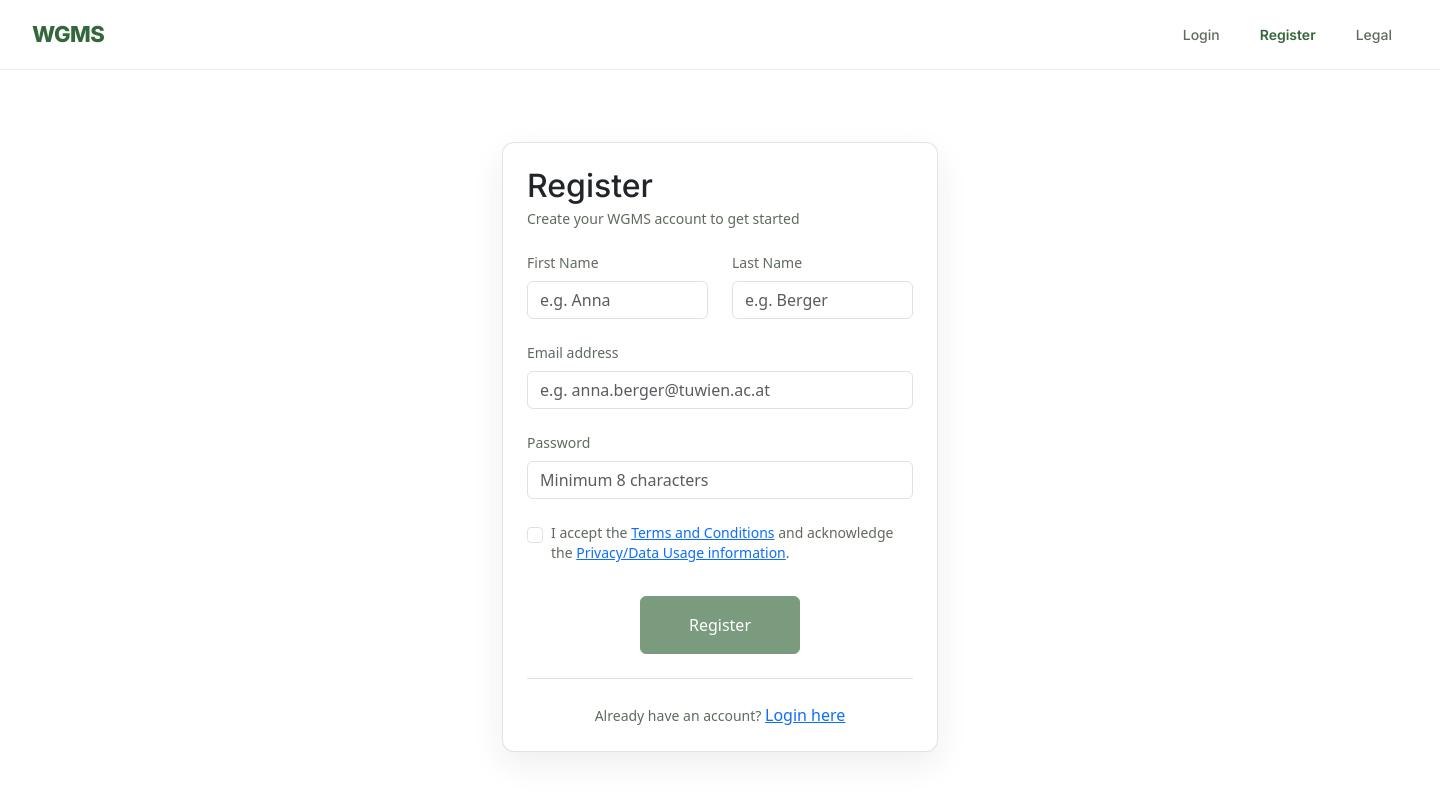
Test: FR-01 FR-02 FR-03 frontend workflow › FR-01 validates registration and login forms
expect the button "Register" is disabled: met, box [640, 596, 800, 654]
Type "not-an-email" into the field named "email" at (720, 390), box [527, 371, 913, 409]
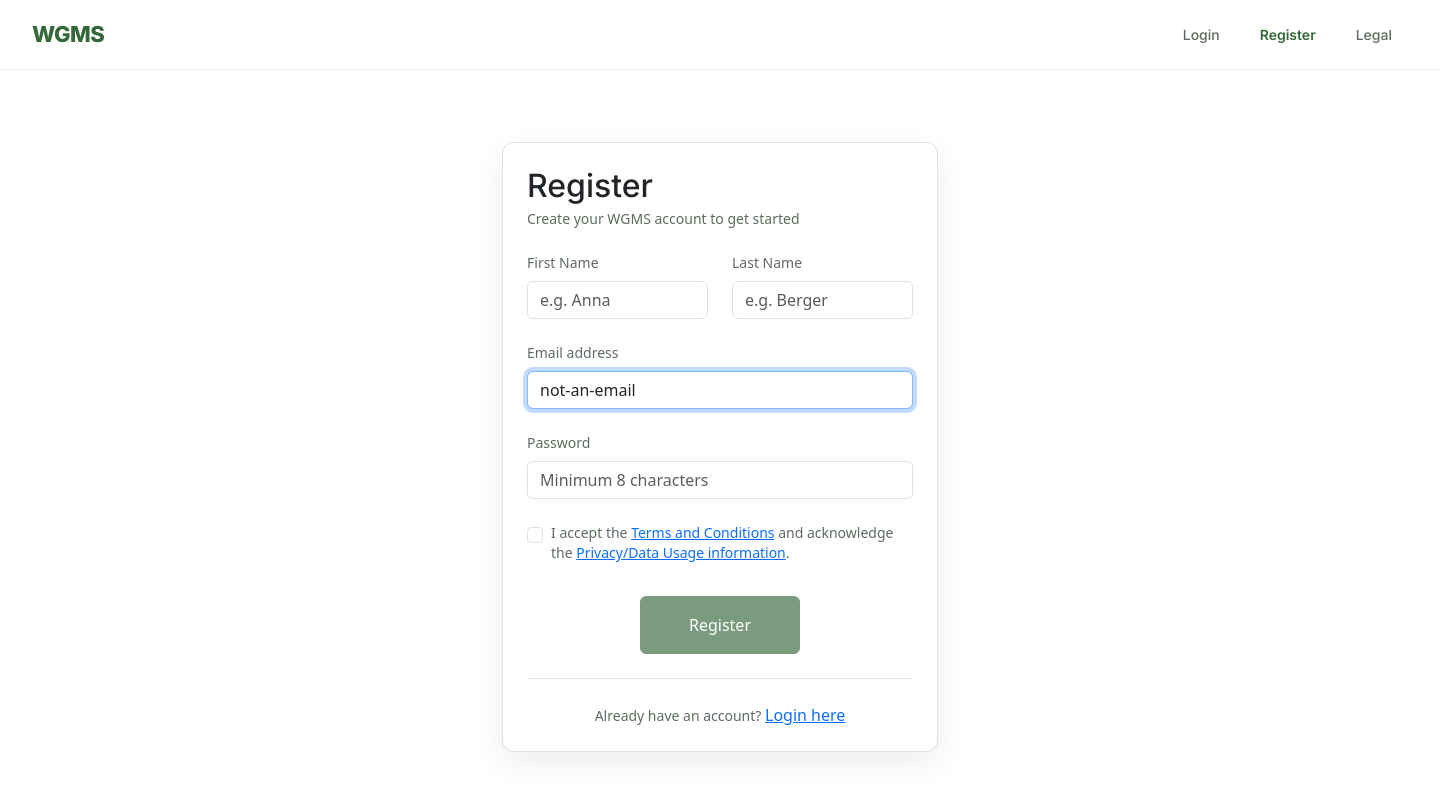
Type "weak" into the password field named "password" at (720, 480), box [527, 461, 913, 499]
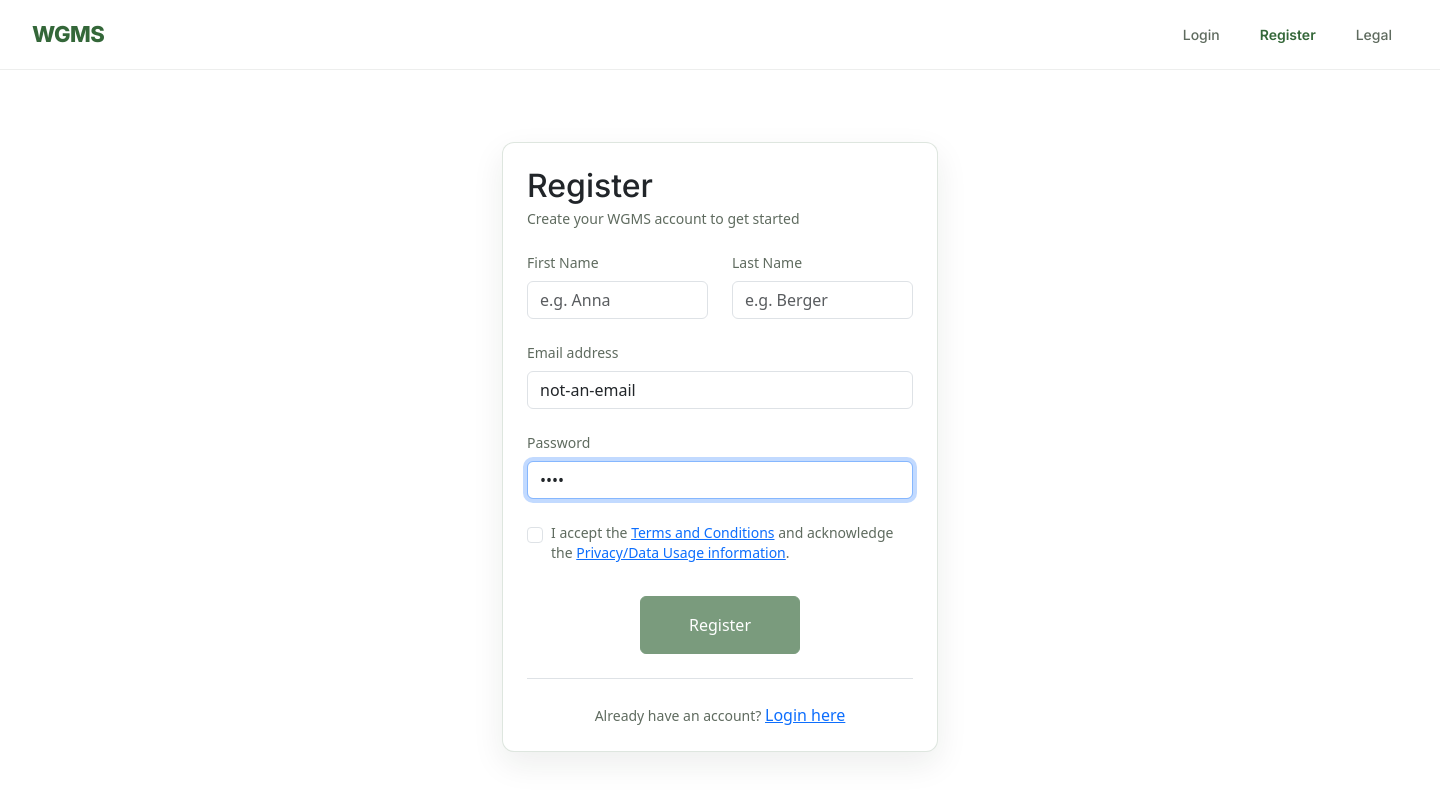
expect the button "Register" is disabled: met, box [640, 596, 800, 654]
Open "/#/login"
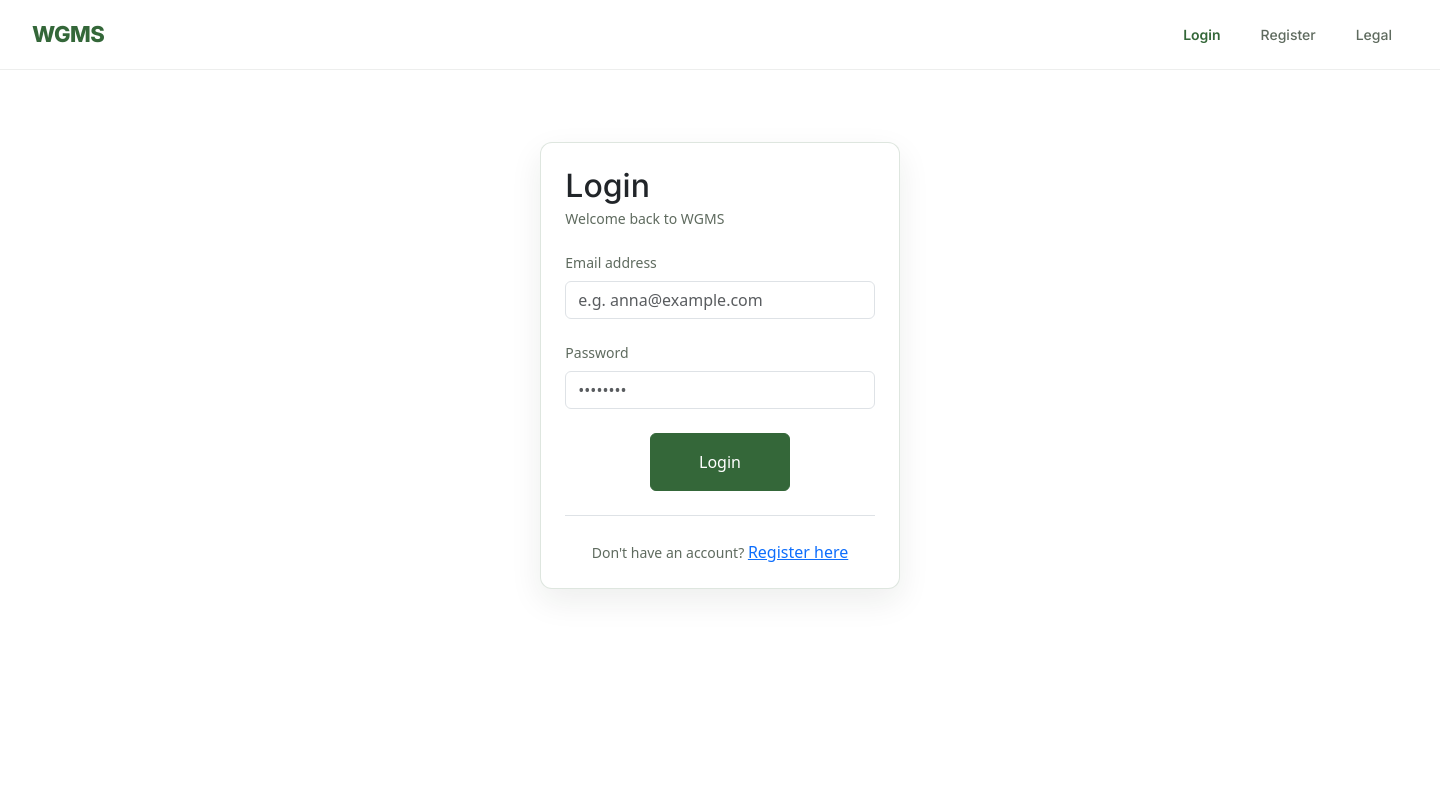
Click the button "Login" at (720, 462), box [650, 433, 790, 491]
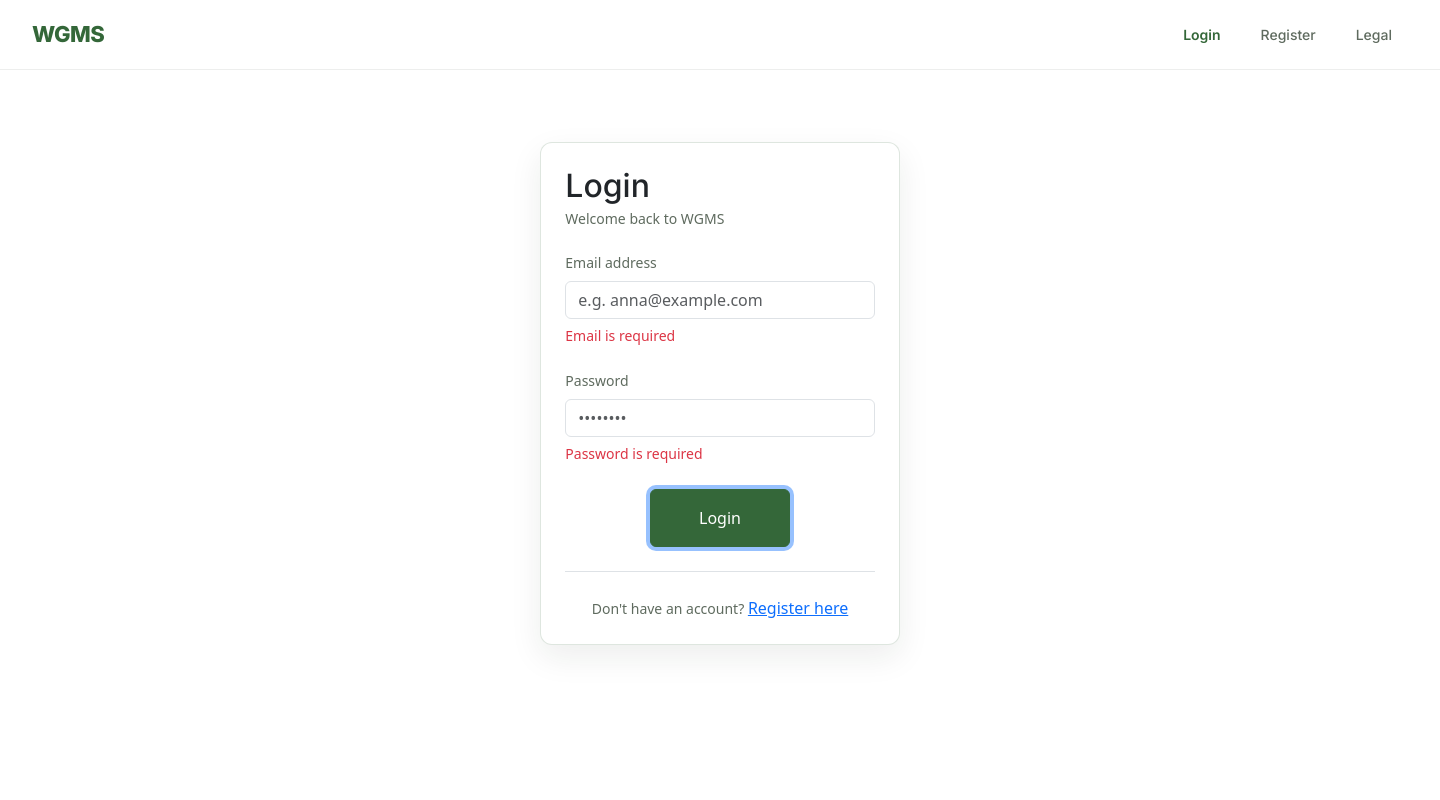
expect the text "Email is required" is shown: met, box [565, 326, 675, 345]
expect the text "Password is required" is shown: met, box [565, 444, 702, 463]
